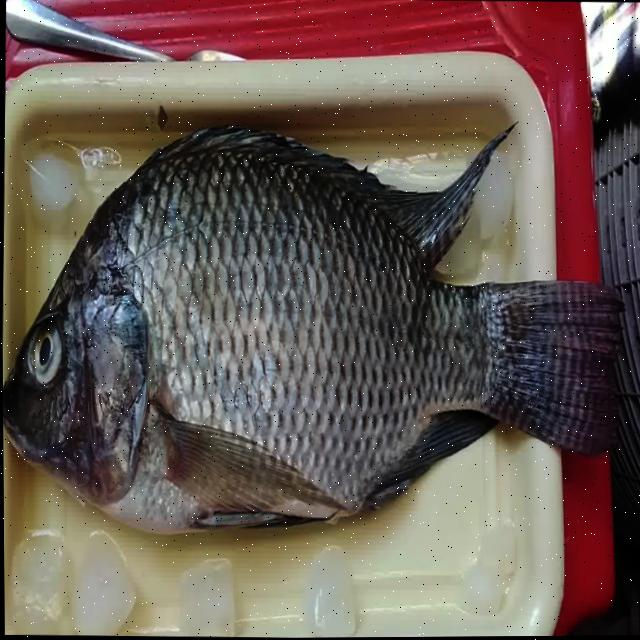Fresh: (79, 173, 393, 523), (22, 294, 76, 397)
